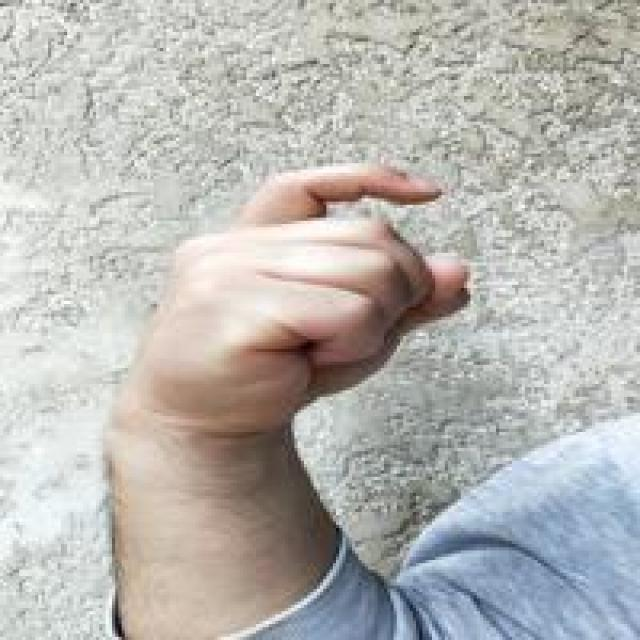X: (106, 156, 477, 430)
